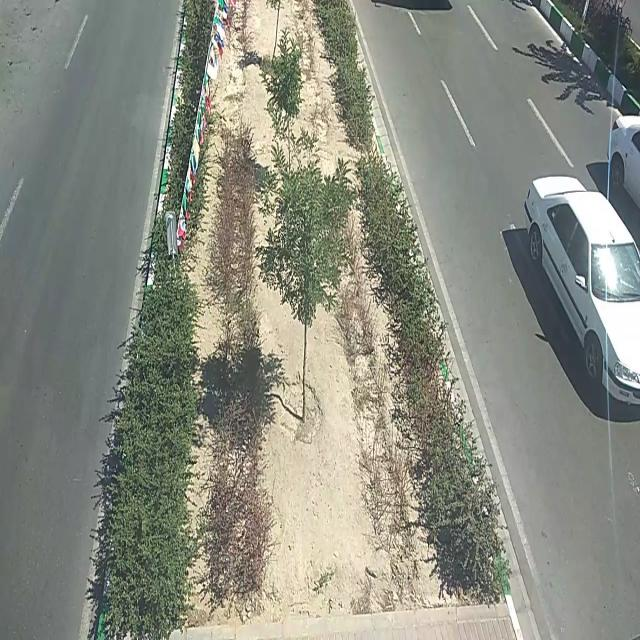car: (522, 175, 640, 405), (606, 117, 640, 203)
